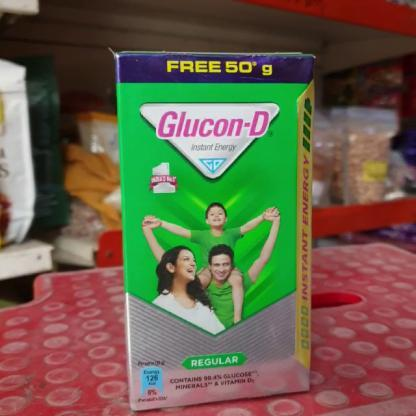Glucon D Regular 1-KG: (122, 46, 307, 412)
